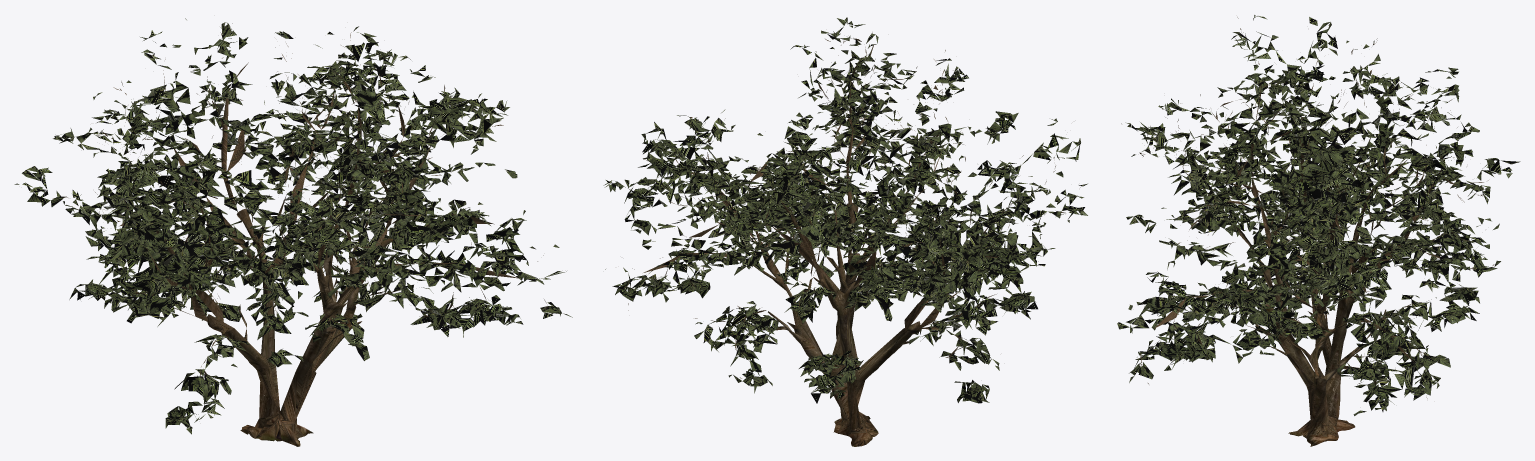
The model's file is jacaranda_tree_lod1.glb.
3 renders of one model, left to right at view 1: azimuth 30°, elevation 25°; view 2: azimuth 150°, elevation 25°; view 3: azimuth 270°, elevation 25°, orthographic. The views are drawn at different scales.
Parts seen in each view (by area): view 1: jacaranda_tree_LOD0; view 2: jacaranda_tree_LOD0; view 3: jacaranda_tree_LOD0.
Part boxes in pixels (x1,y1,x2,y2): jacaranda_tree_LOD0: (14,18,572,446); jacaranda_tree_LOD0: (603,17,1087,446); jacaranda_tree_LOD0: (1117,15,1520,446).
Bounding box in the file's own units: 23.57 × 19.3 × 18.22.
Materials: 3 (3 with a texture image).
